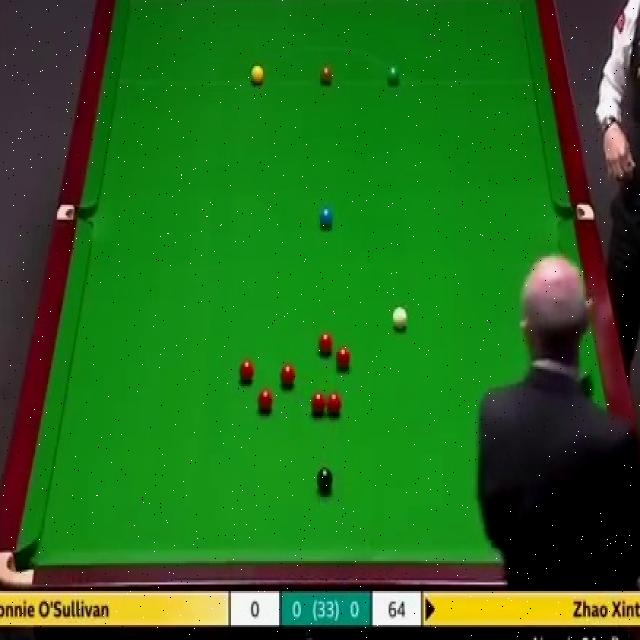black-ball: (316, 466, 334, 496)
blue-ball: (318, 205, 334, 228)
brown-ball: (319, 64, 333, 85)
green-ball: (386, 67, 400, 88)
red-ball: (238, 357, 255, 386), (280, 364, 297, 390), (336, 344, 353, 370), (317, 334, 334, 359), (256, 388, 273, 411), (310, 393, 326, 415), (328, 394, 342, 414)
white-ball: (391, 306, 407, 334)
yellow-ball: (250, 63, 264, 85)
